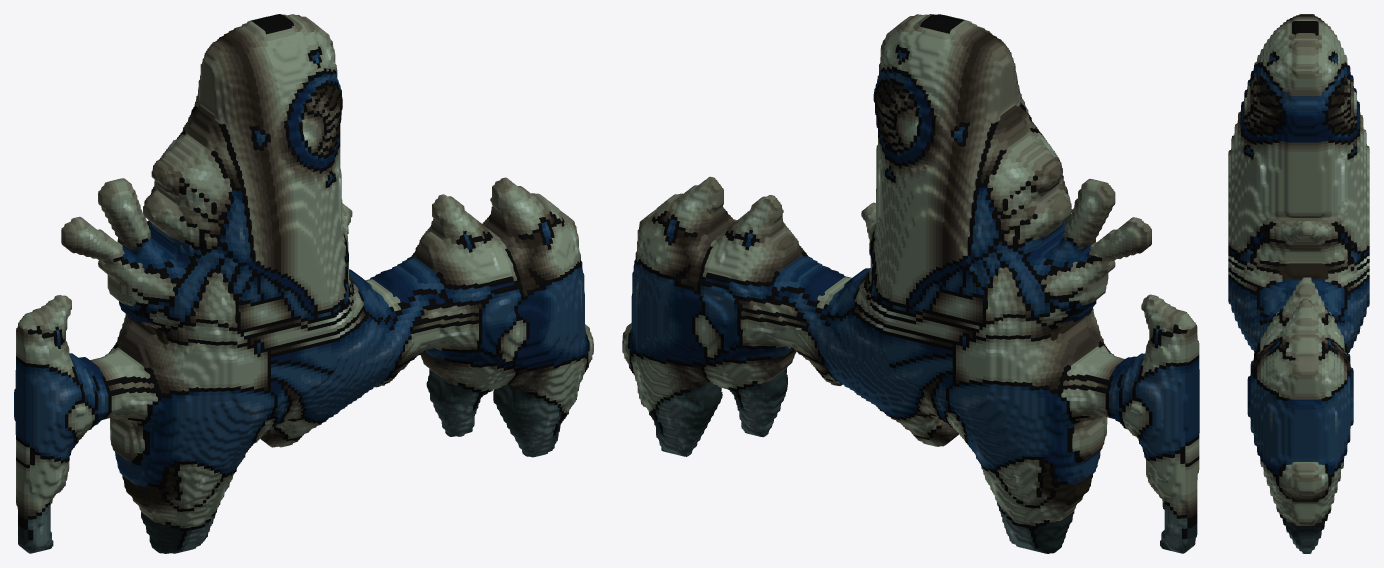
The model's file is Fight_748_1_01.obj.
The picture shows the model from 3 angles, left to right: view 1: azimuth 30°, elevation 25°; view 2: azimuth 150°, elevation 25°; view 3: azimuth 270°, elevation 25°; orthographic projection. The views are drawn at different scales.
Bounding box in the file's own units: 17 × 14.4 × 4.4.
1 material, 1 textured.
